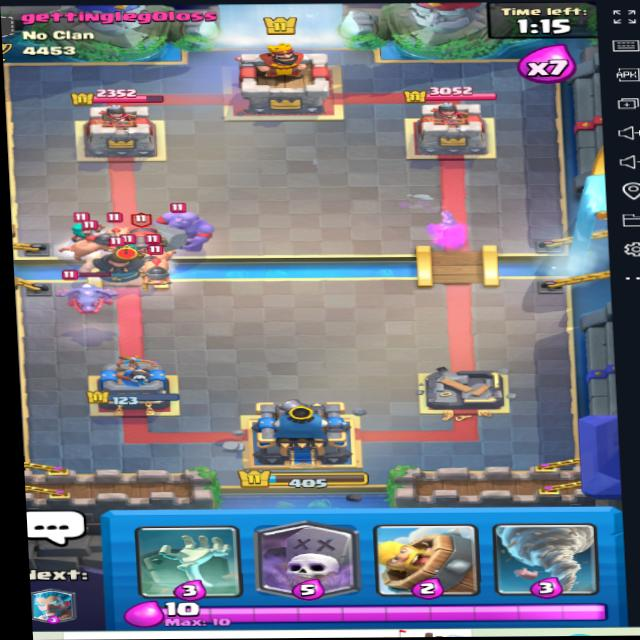Bowler: (143, 196, 234, 259)
Cannoncart: (117, 212, 177, 264)
Edragon: (53, 266, 125, 321)
Rascalboy: (86, 244, 152, 287)
Rascalgirl: (57, 215, 97, 243)
Royalhogs: (63, 229, 123, 255), (138, 260, 177, 289)
